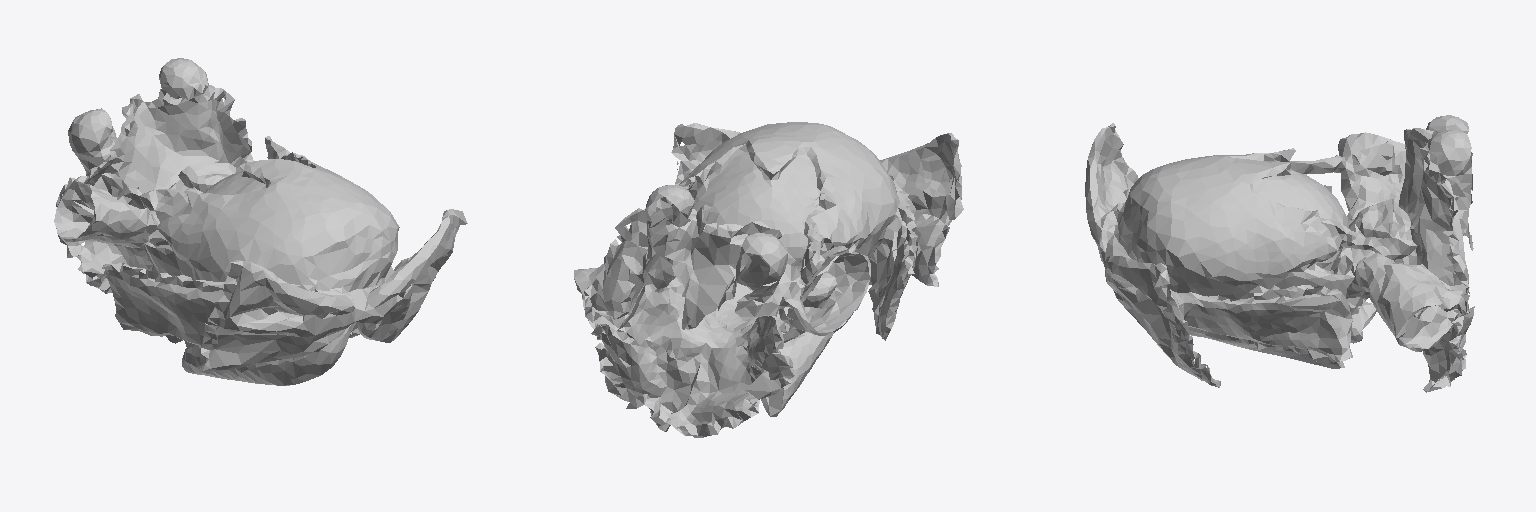
Rendered from reimu.obj.
3 renders of one model, left to right at view 1: azimuth 30°, elevation 25°; view 2: azimuth 150°, elevation 25°; view 3: azimuth 270°, elevation 25°, orthographic.
Visible parts, largest first — view 1: reimu_low; view 2: reimu_low; view 3: reimu_low.
Boxes of the visible parts, <box> form: reimu_low: <box>54,58,467,385</box>; reimu_low: <box>574,122,963,437</box>; reimu_low: <box>1085,115,1474,392</box>.
Size of the model in its own units: 25.65 by 20.95 by 28.7.